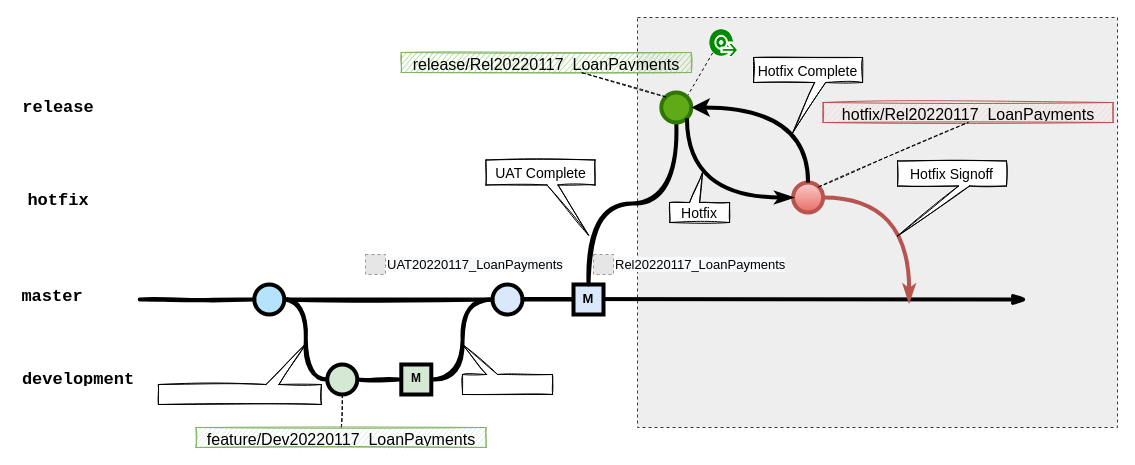
This 1135x465 diagram has some shape labels left out. Grey dashed boxes stand in for pictures. The shapes that lost their labels are listed below. From the top down, each one's centre as x and y in pixels, then its label:
At point (722, 42): "Prod Deployment".
At point (239, 374): "New development start".
At point (507, 369): "UAT Start".
